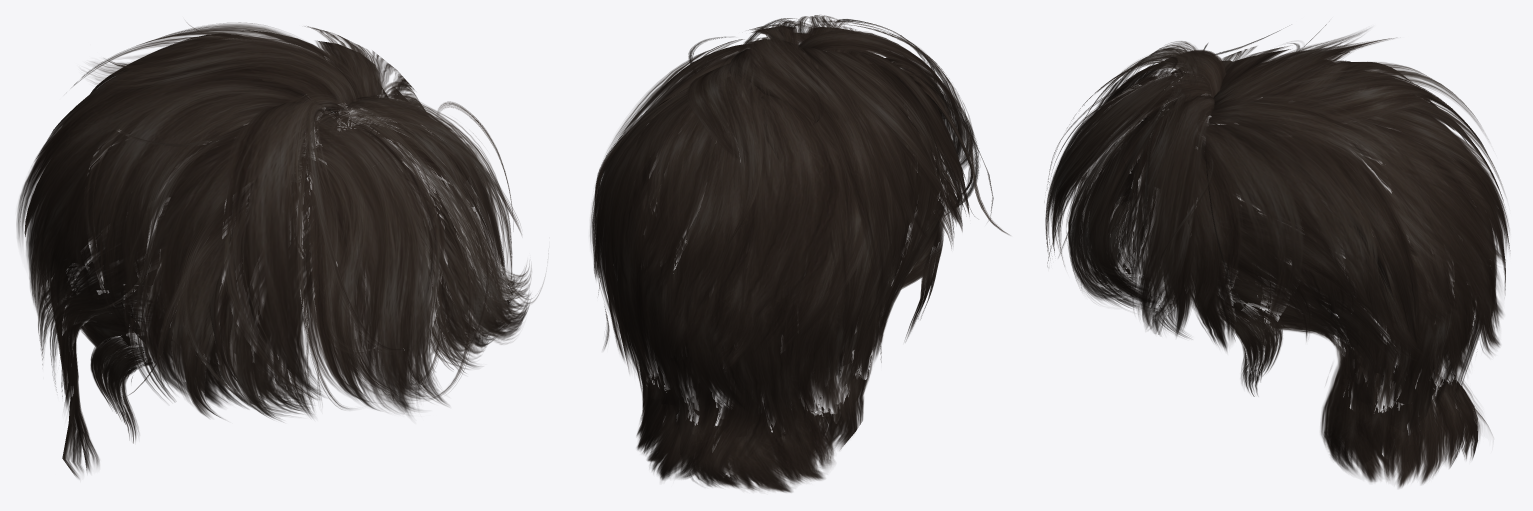
File: diamond_wavy_02_keren.glb
3 renders of one model, left to right at view 1: azimuth 30°, elevation 25°; view 2: azimuth 150°, elevation 25°; view 3: azimuth 270°, elevation 25°, orthographic. The views are drawn at different scales.
Parts seen in each view (by area): view 1: s4studio_mesh_1.002; view 2: s4studio_mesh_1.002; view 3: s4studio_mesh_1.002.
Boxes of the visible parts, bbox=[...] form: s4studio_mesh_1.002: bbox=[16, 22, 544, 478]; s4studio_mesh_1.002: bbox=[590, 15, 1010, 492]; s4studio_mesh_1.002: bbox=[1045, 24, 1509, 487].
Size of the model in its own units: 0.2217 by 0.2507 by 0.2595.
1 material, 1 textured.
